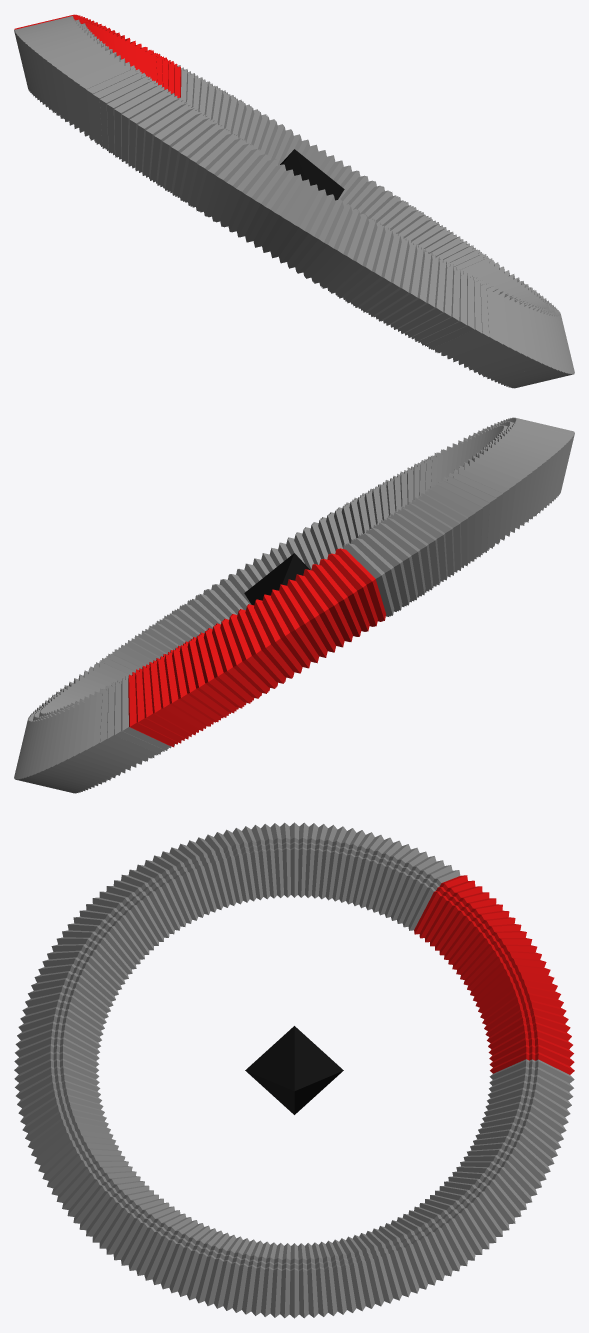
The model's file is local_feasible_centers.obj.
3 views of the same model, one above another, from view 1: azimuth 30°, elevation 25°; view 2: azimuth 150°, elevation 25°; view 3: azimuth 270°, elevation 25° (orthographic). The views are drawn at different scales.
Visible parts, largest first — view 1: rejected_candidates, feasible_candidates, target_point_000045; view 2: rejected_candidates, feasible_candidates, target_point_000045; view 3: rejected_candidates, feasible_candidates, target_point_000045.
Boxes of the visible parts, box(x1,y1,x2,y2) form: rejected_candidates: box(14, 16, 574, 388); feasible_candidates: box(14, 14, 181, 97); target_point_000045: box(280, 149, 344, 200); rejected_candidates: box(14, 417, 574, 793); feasible_candidates: box(128, 548, 386, 747); target_point_000045: box(244, 553, 309, 605); rejected_candidates: box(14, 822, 574, 1318); feasible_candidates: box(414, 875, 574, 1074); target_point_000045: box(245, 1026, 343, 1114).
Size of the model in its own units: 0.0183 by 0.0145 by 0.023.
